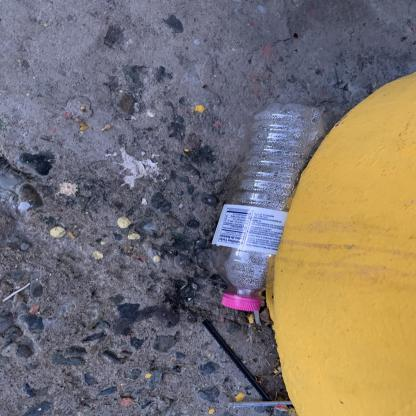trash: (200, 101, 348, 317)
